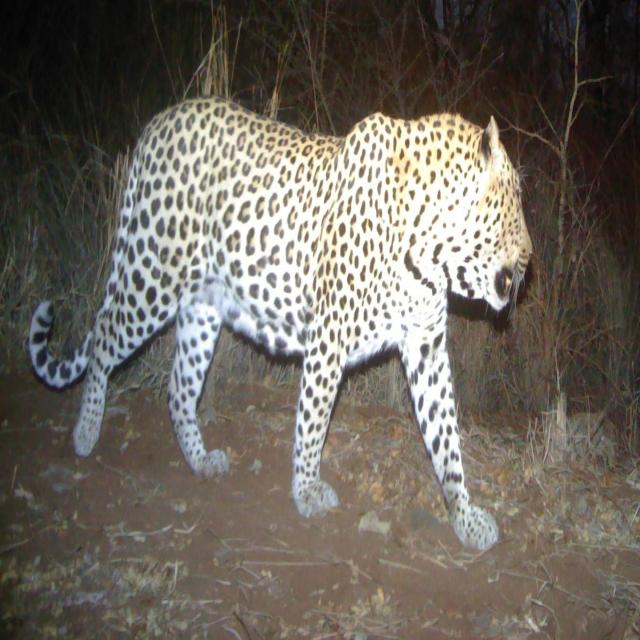Leopard: (15, 105, 548, 536)
